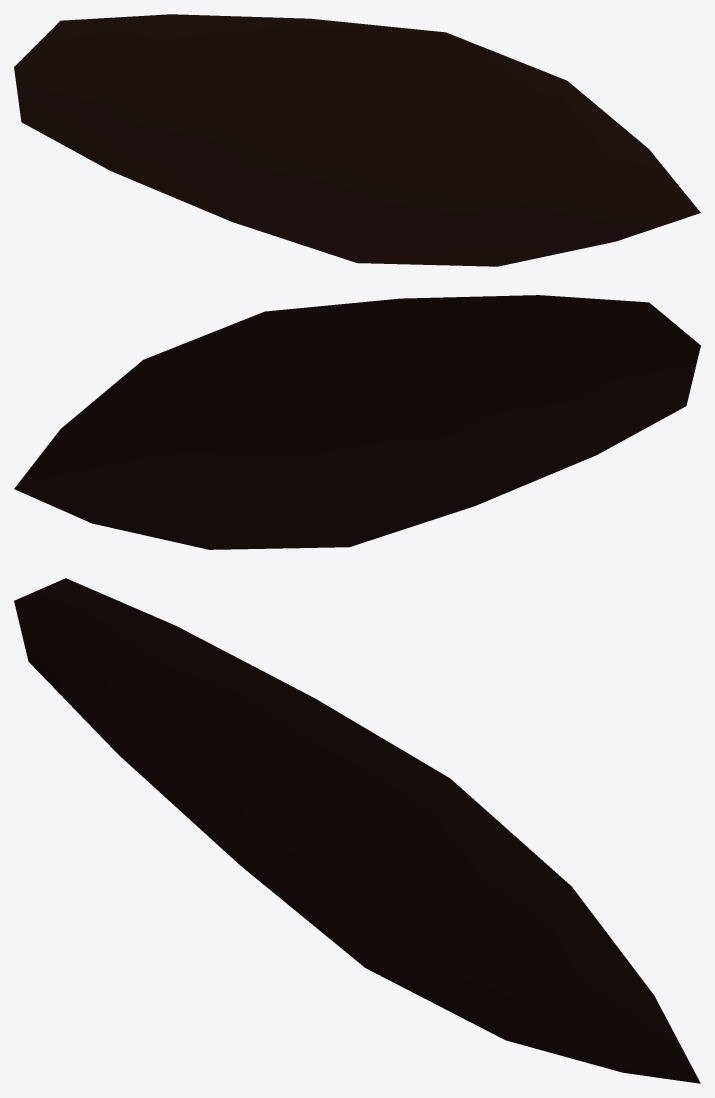
Rendered from hen_feather_flight_secondary_015.obj.
3 views of the same model, one above another, from view 1: azimuth 30°, elevation 25°; view 2: azimuth 150°, elevation 25°; view 3: azimuth 330°, elevation 25° (orthographic).
Visible parts, largest first — view 1: feather_flight_secondary_015; view 2: feather_flight_secondary_015; view 3: feather_flight_secondary_015.
Boxes of the visible parts, left/top/right/bottom form: feather_flight_secondary_015: left=14, top=14, right=700, bottom=266; feather_flight_secondary_015: left=14, top=295, right=700, bottom=549; feather_flight_secondary_015: left=14, top=578, right=700, bottom=1083.
Bounding box in the file's own units: 0.0677 × 0.0336 × 0.000965.
